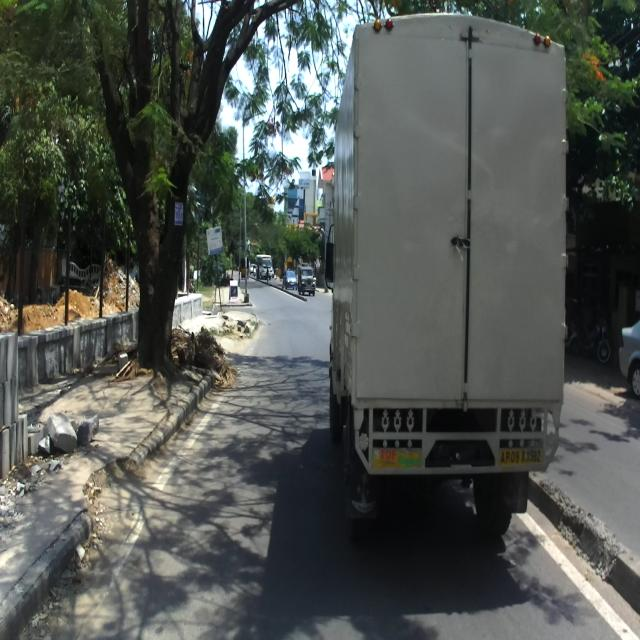stones ahead at: (19, 410, 102, 462)
tree ahead at: (110, 100, 192, 366)
truck ahead at: (329, 18, 570, 496)
